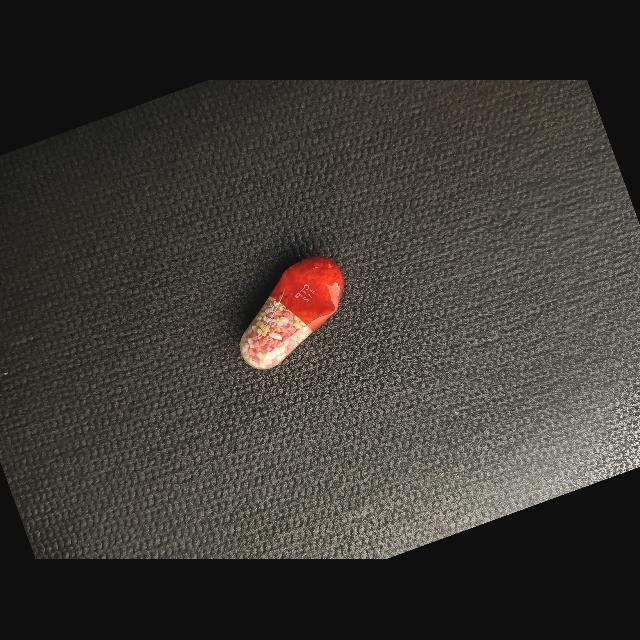Defective Capsule: (240, 257, 344, 370)
